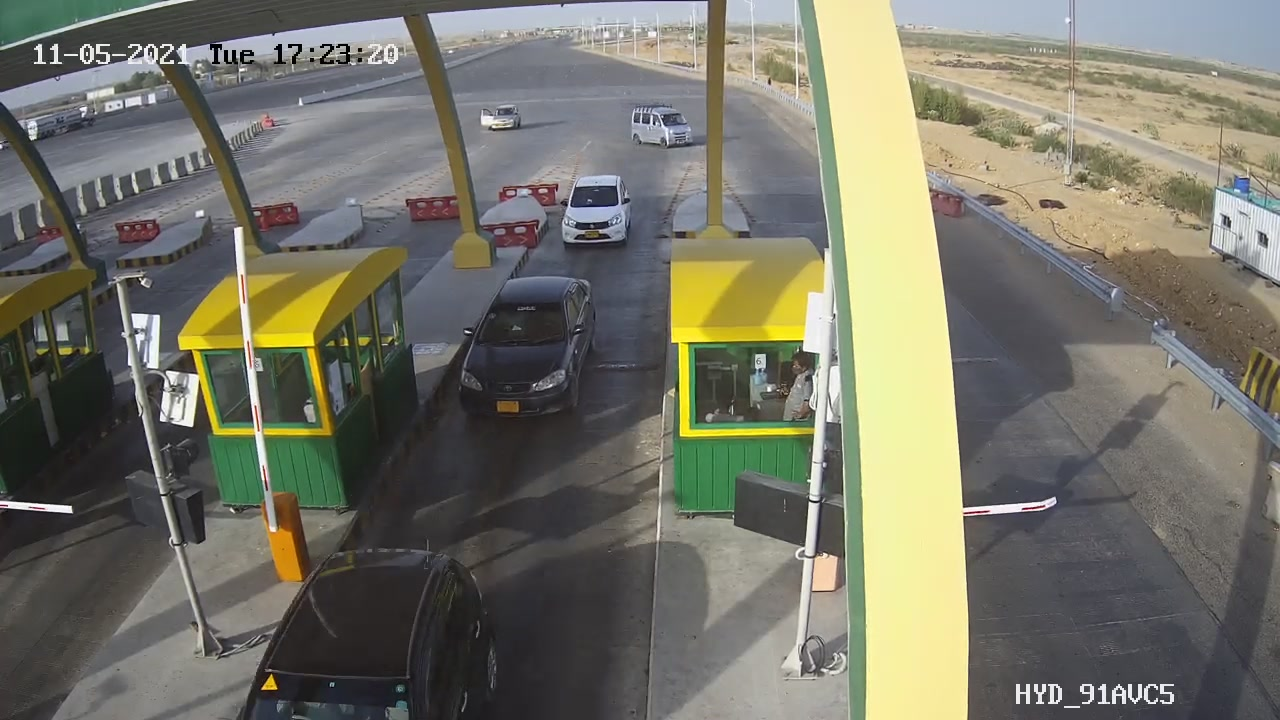F1: (443, 259, 614, 442), (547, 166, 644, 255)
